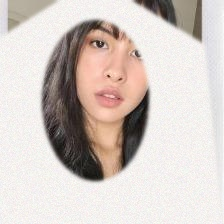Mukena: (0, 28, 207, 224)
